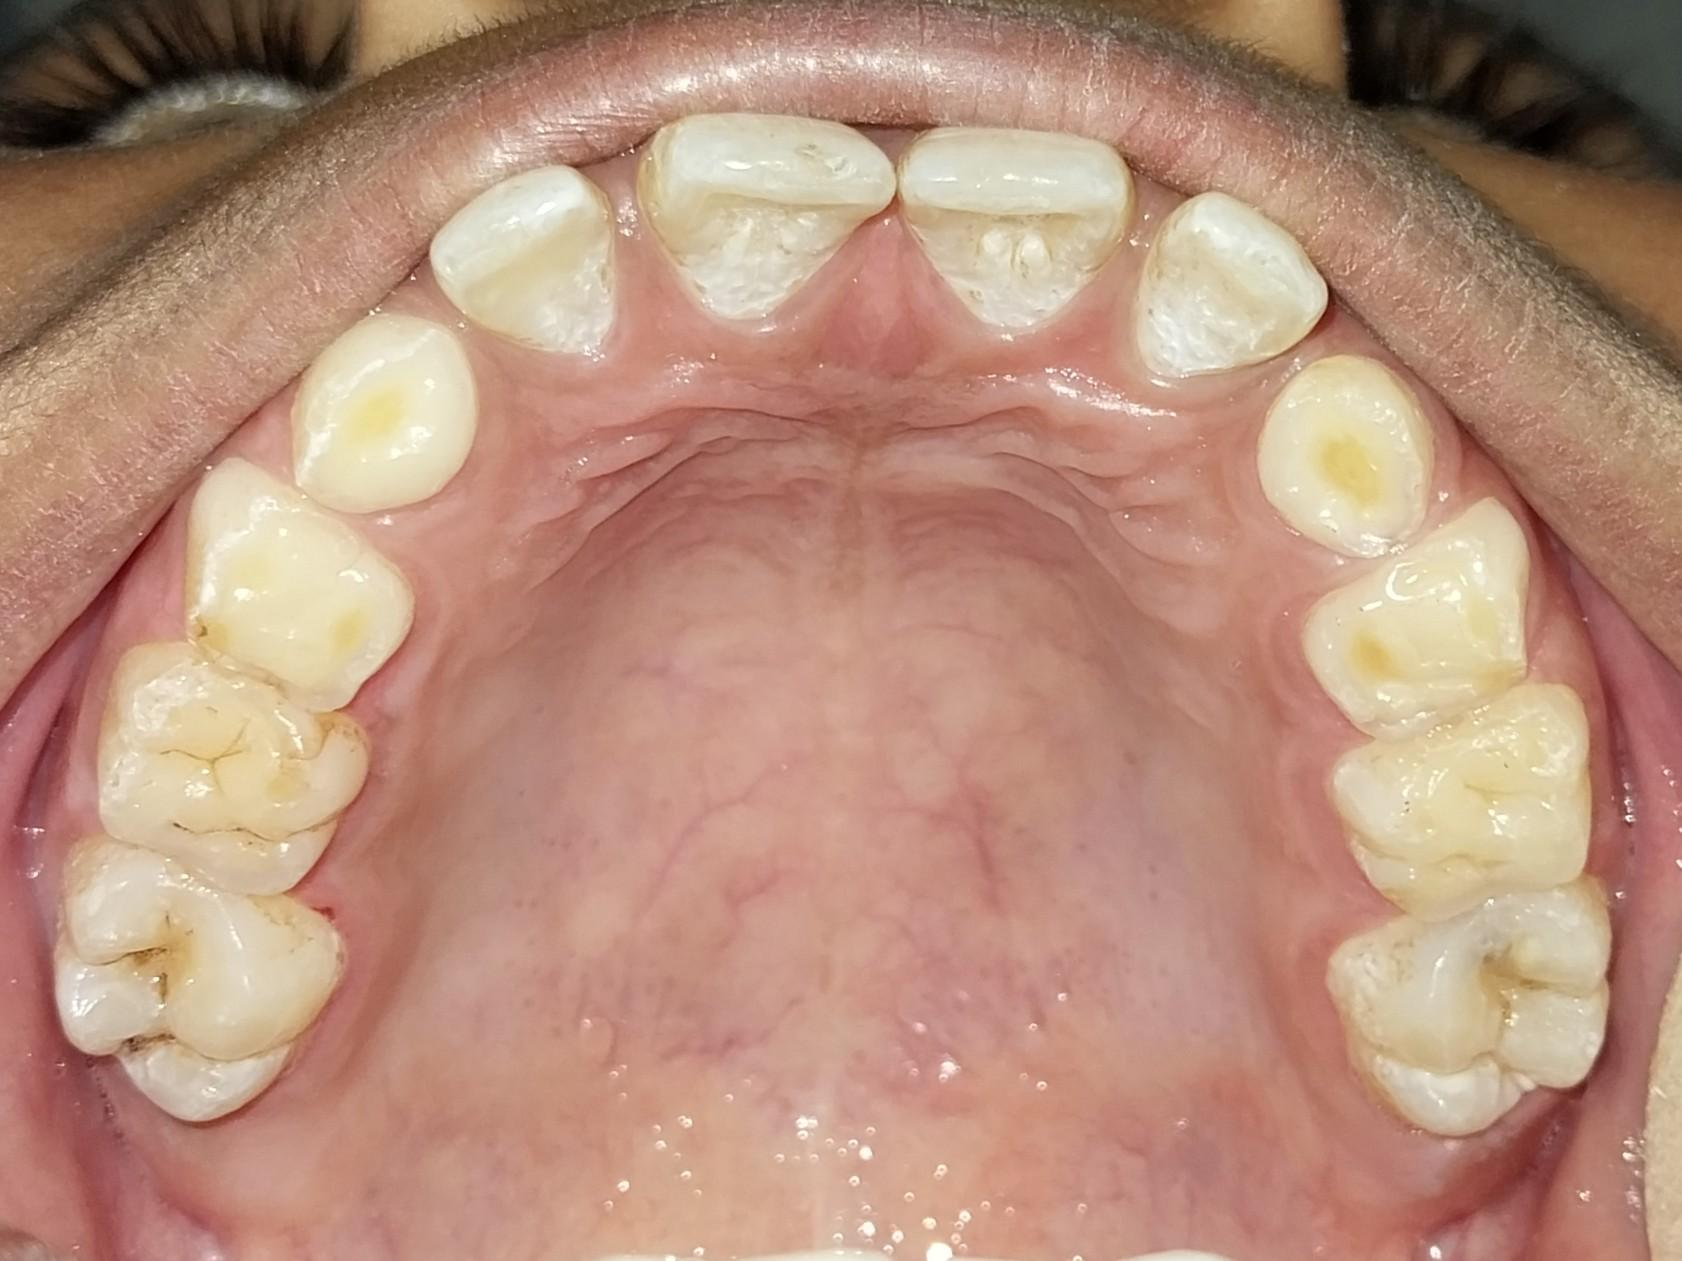D: (41, 847, 334, 1121)
